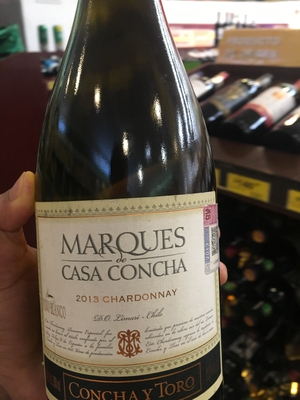marques de casa concha chardonnay: (26, 35, 225, 390)
